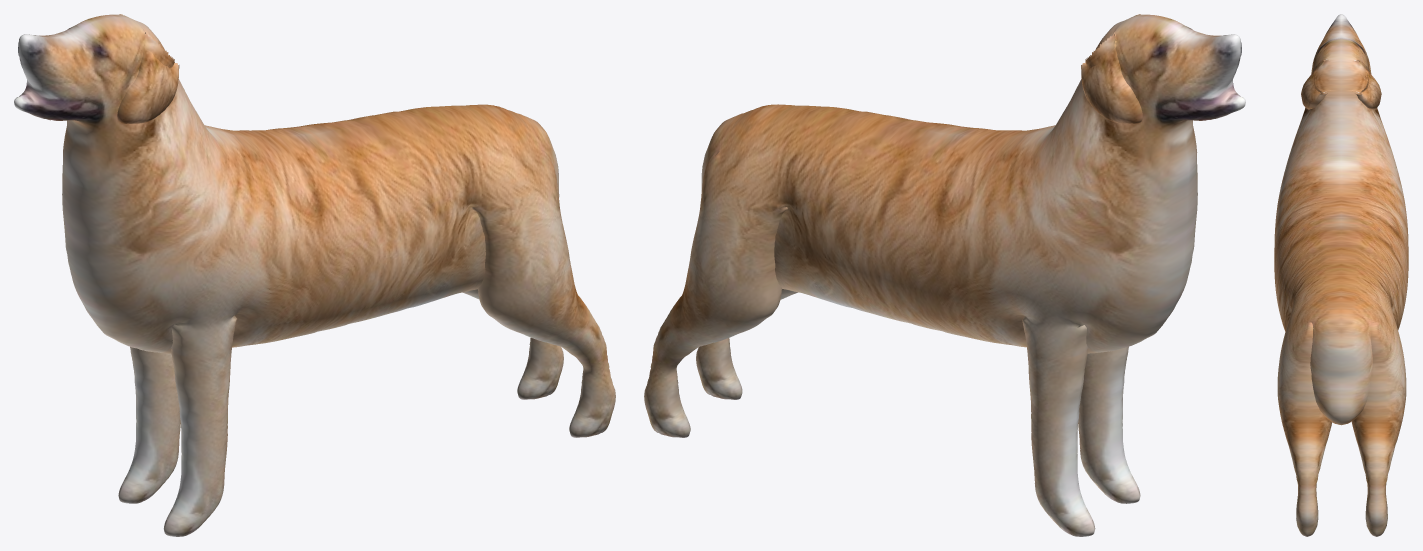
Rendered from golden-retriever.glb.
3 renders of one model, left to right at view 1: azimuth 30°, elevation 25°; view 2: azimuth 150°, elevation 25°; view 3: azimuth 270°, elevation 25°, orthographic. The views are drawn at different scales.
Parts seen in each view (by area): view 1: Object_4; view 2: Object_4; view 3: Object_4.
Part boxes in pixels (x1=…): Object_4: x1=14, y1=14, x2=615, y2=536; Object_4: x1=644, y1=14, x2=1245, y2=536; Object_4: x1=1274, y1=14, x2=1408, y2=536.
Size of the model in its own units: 7.4 by 6.38 by 2.24.
1 material, 1 textured.
